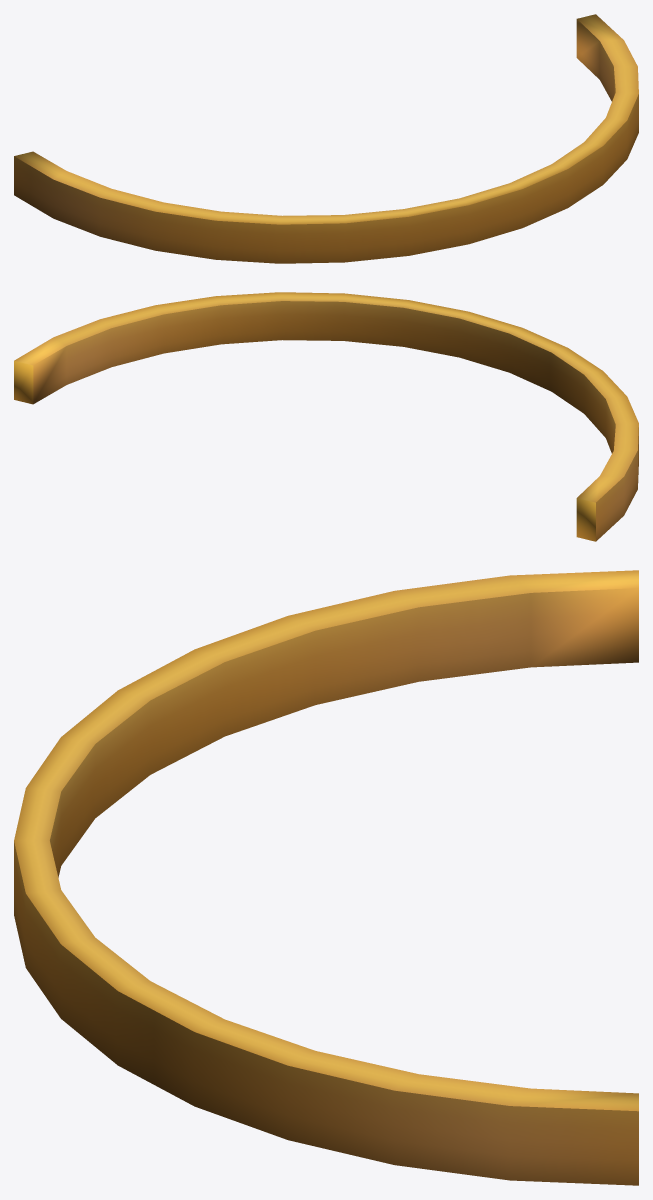
Rendered from half_circle_wall.fbx.
The picture shows the model from 3 angles, top to bottom: view 1: azimuth 30°, elevation 25°; view 2: azimuth 150°, elevation 25°; view 3: azimuth 270°, elevation 25°; orthographic projection. The views are drawn at different scales.
Visible parts, largest first — view 1: Cylinder.039; view 2: Cylinder.039; view 3: Cylinder.039.
Boxes of the visible parts, x1=… form: Cylinder.039: x1=14, y1=14, x2=638, y2=263; Cylinder.039: x1=14, y1=292, x2=638, y2=541; Cylinder.039: x1=14, y1=570, x2=638, y2=1185.
Bounding box in the file's own units: 3426 × 220 × 1673.
